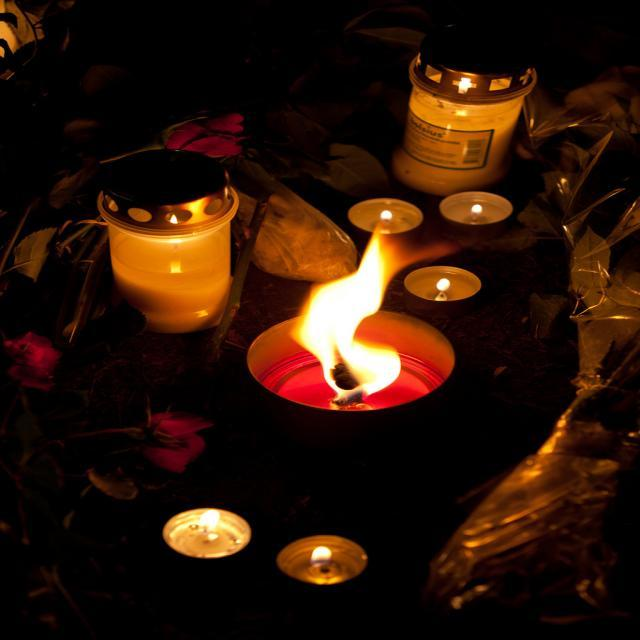Fire: (290, 270, 414, 383)
